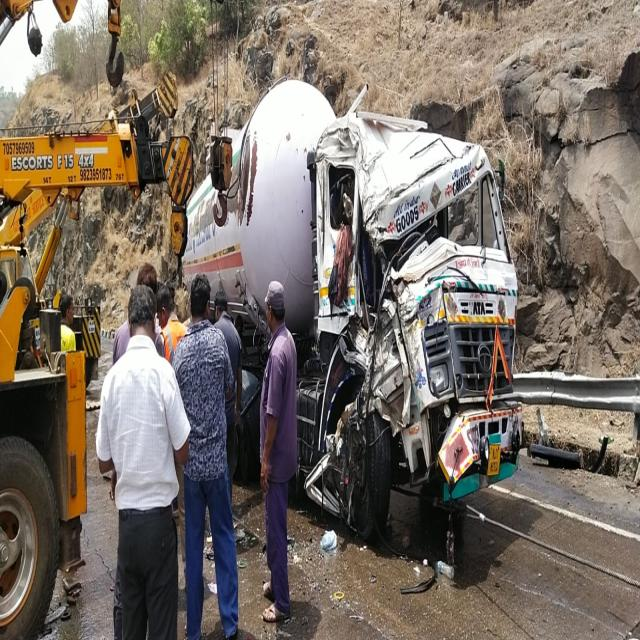accident: (185, 81, 521, 540)
